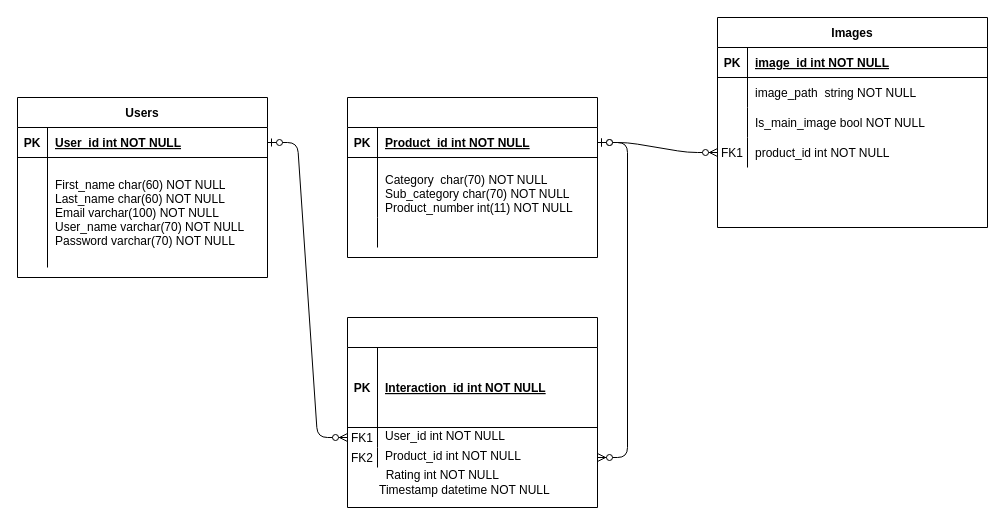
Some shapes in this 1005 by 525 pixel diagram are drawn without their labels. The shapes that lost their labels are listed below. From the top down, each one's box as (x1, y1, x2, y2) in pixels, then its label:
(346, 96, 598, 258): Products
(346, 316, 598, 508): Interactions
